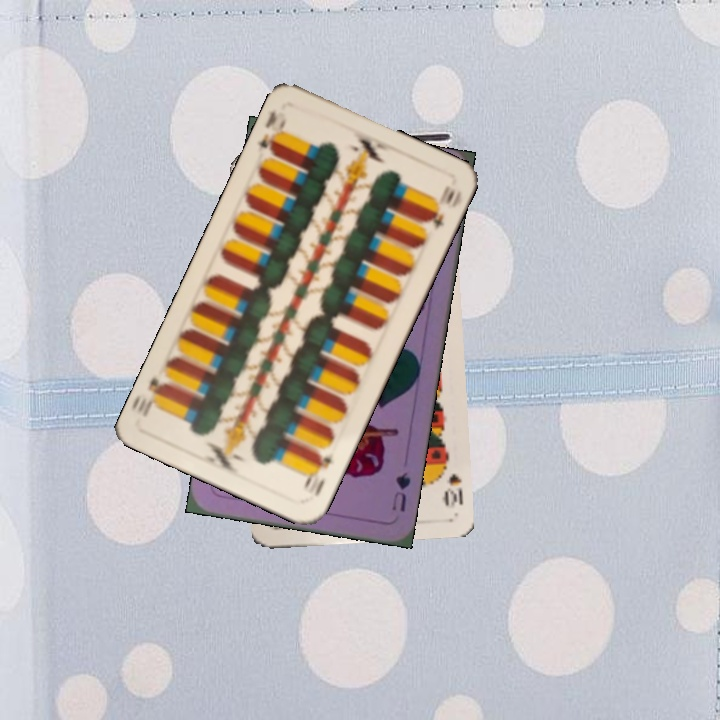E10: (253, 107, 289, 159), (299, 447, 334, 500)
GU: (388, 468, 413, 515)
S10: (438, 455, 466, 510)
